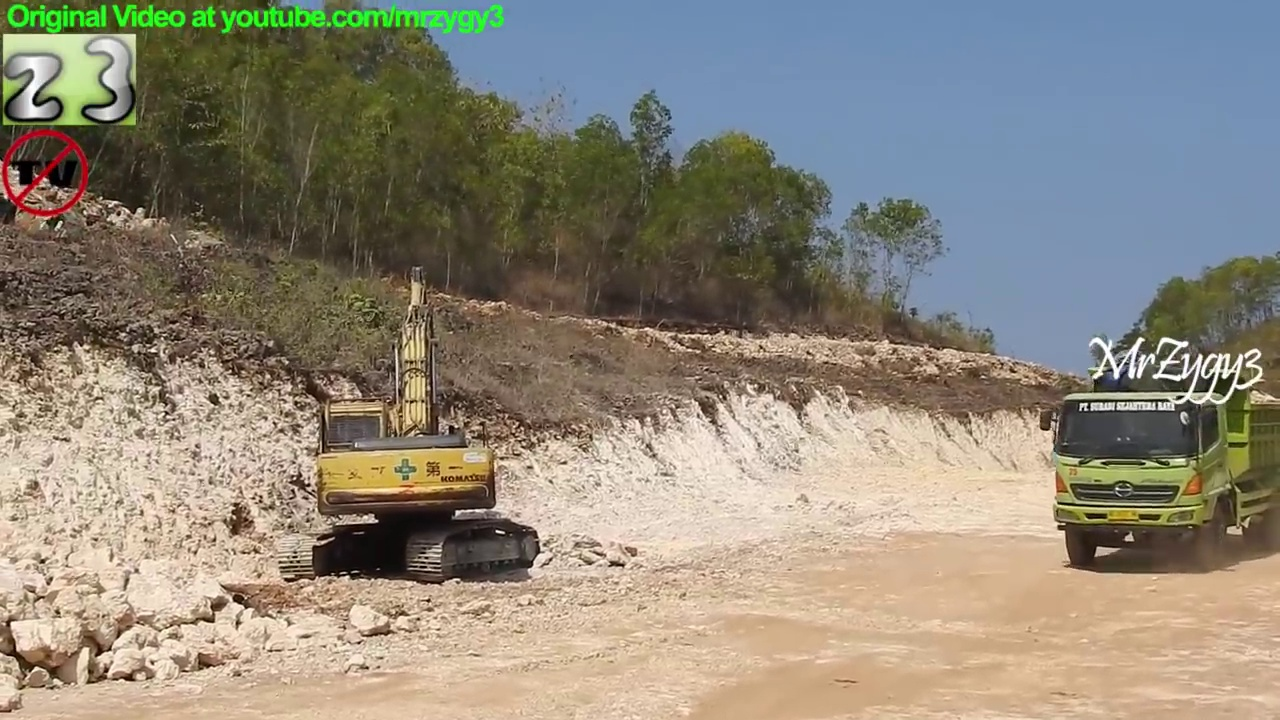excavator breaker: (269, 259, 548, 588)
truck: (1034, 361, 1280, 575)
